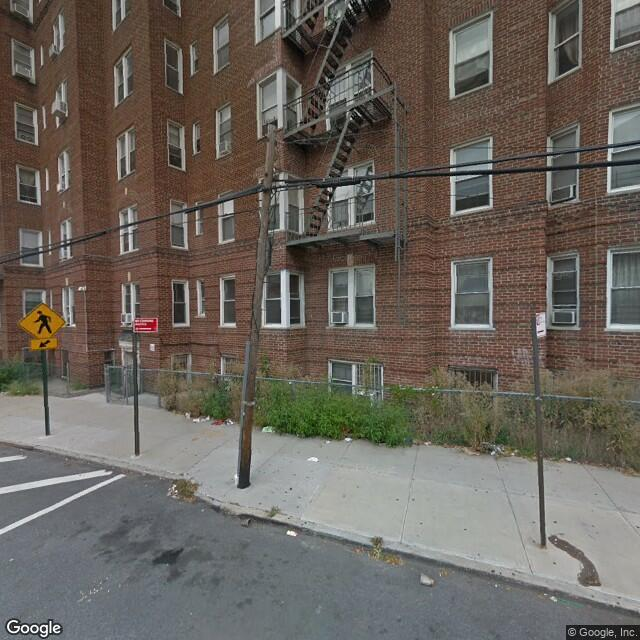litter: (161, 482, 185, 507), (409, 571, 437, 589), (257, 419, 277, 438), (543, 588, 562, 605), (212, 415, 235, 427), (302, 452, 323, 464), (279, 529, 299, 539), (564, 452, 576, 468), (324, 435, 336, 449), (421, 435, 432, 450), (343, 429, 353, 445), (191, 416, 204, 426), (179, 407, 190, 418)
